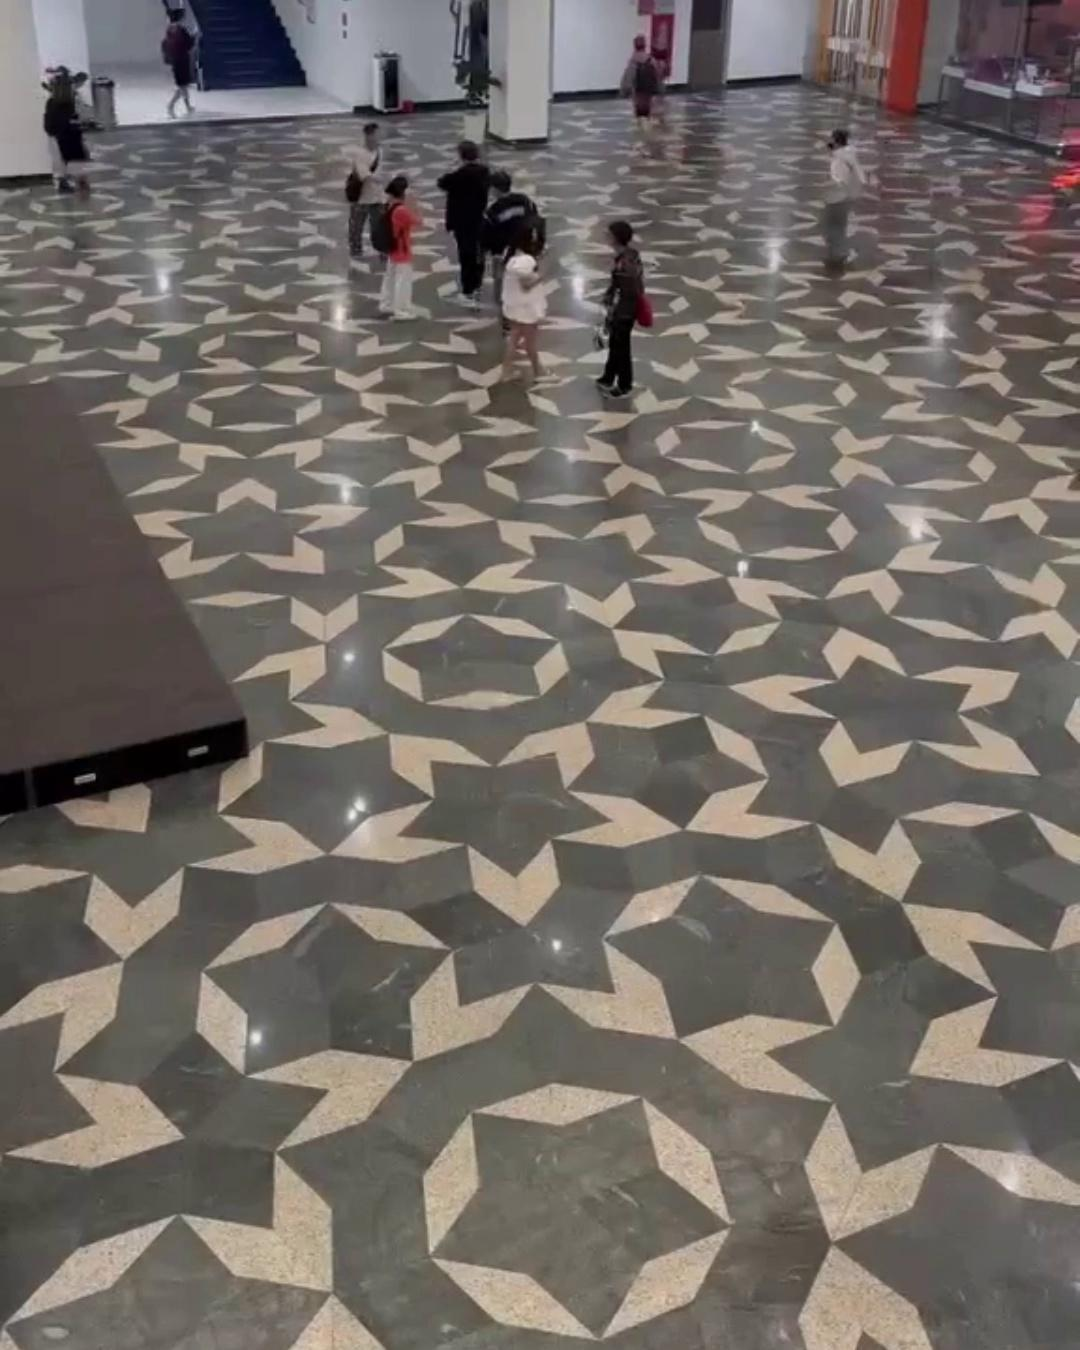your_class: (592, 219, 652, 400), (484, 170, 547, 330), (435, 139, 490, 305), (500, 233, 559, 385), (369, 177, 422, 322), (43, 74, 95, 196), (344, 121, 389, 260), (820, 129, 861, 264), (618, 34, 662, 151), (160, 9, 198, 120)
